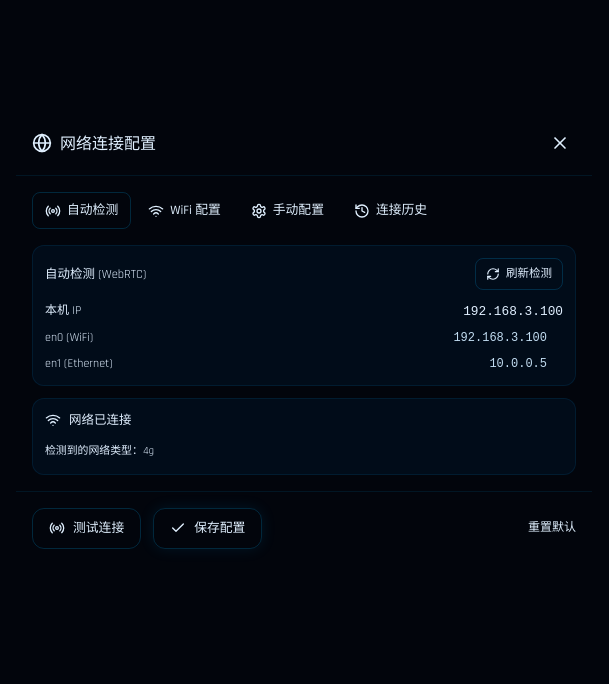
Test: NetworkConfig › 连接历史 Tab › 应显示自动重连设置项
The image size is (609, 684).
Click the button "连接历史" at (390, 211), box left=341, top=192, right=440, bottom=229
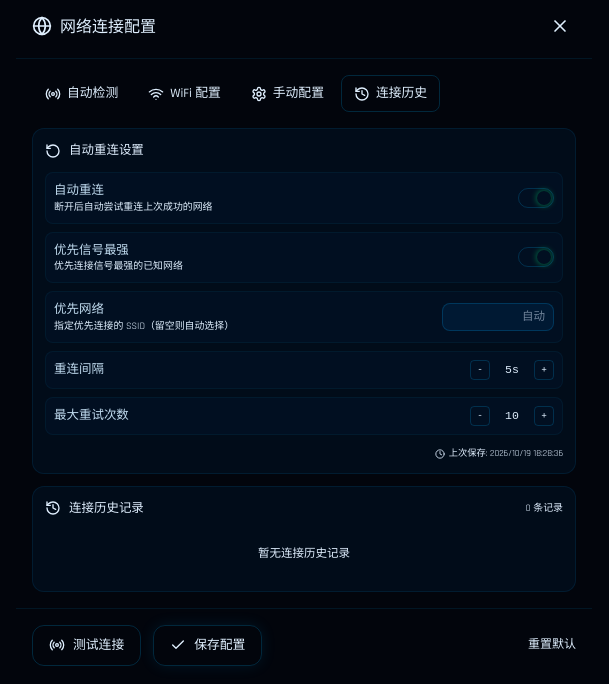
Now the text "自动重连" is shown, box left=54, top=182, right=104, bottom=198
Now the text "优先网络" is shown, box left=54, top=301, right=104, bottom=317
Now the text "重连间隔" is shown, box left=54, top=360, right=104, bottom=379
